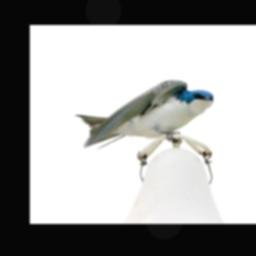Swallow: (74, 79, 215, 152)
